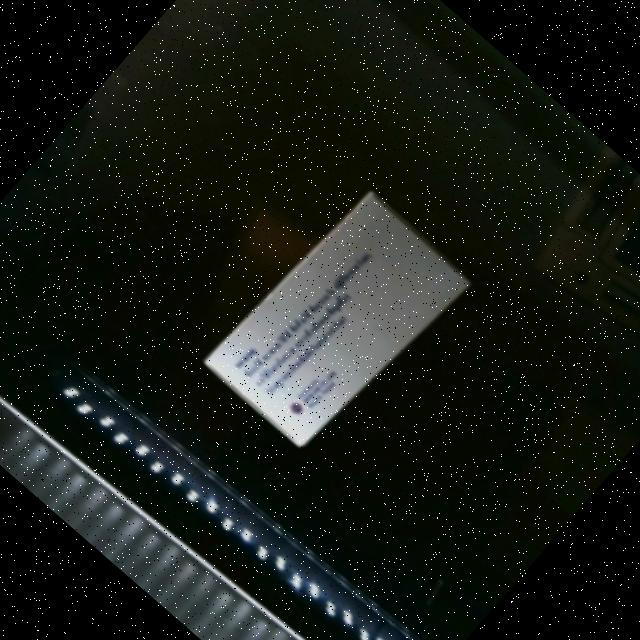sefloc: (202, 189, 471, 458)
